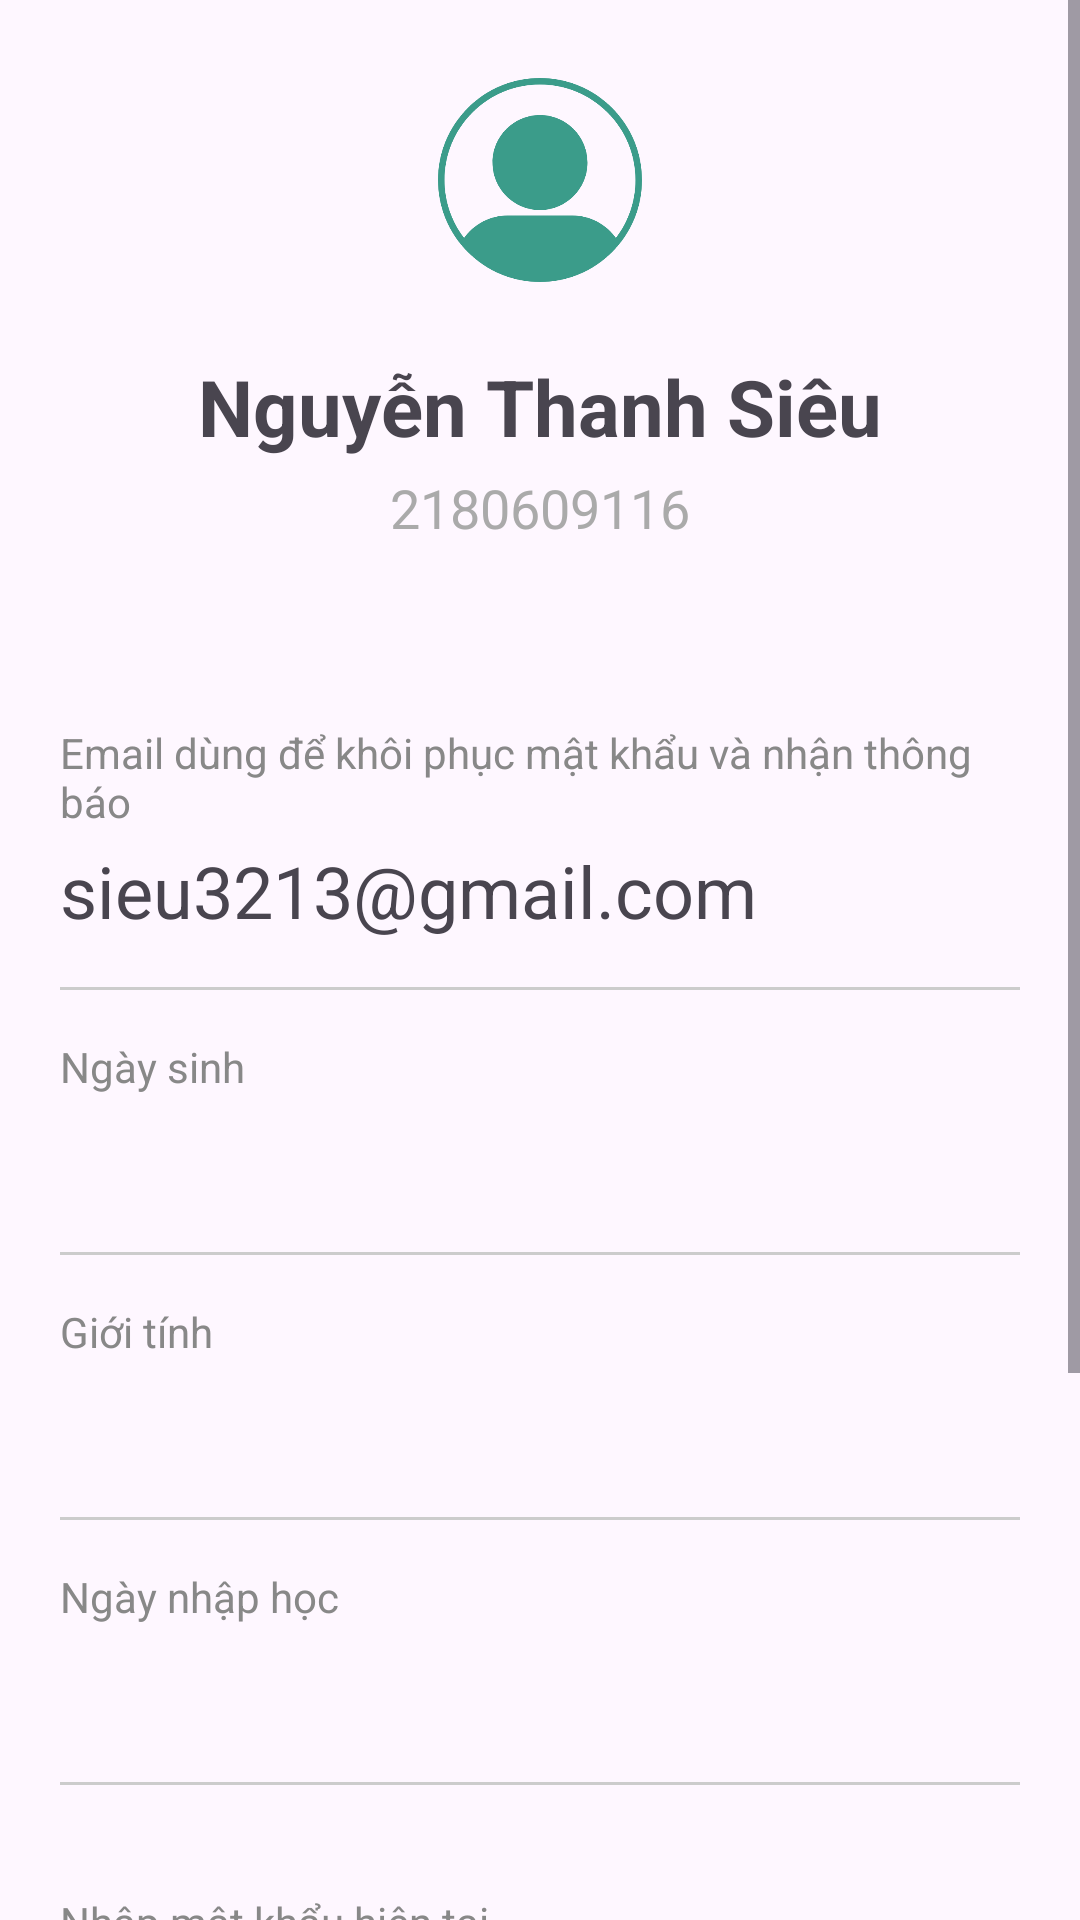

Named icons in this screenshot (1080*1920) and their bounding boxes, BBox(x1, y1, x2, y2):
user: BBox(438, 78, 642, 282)
